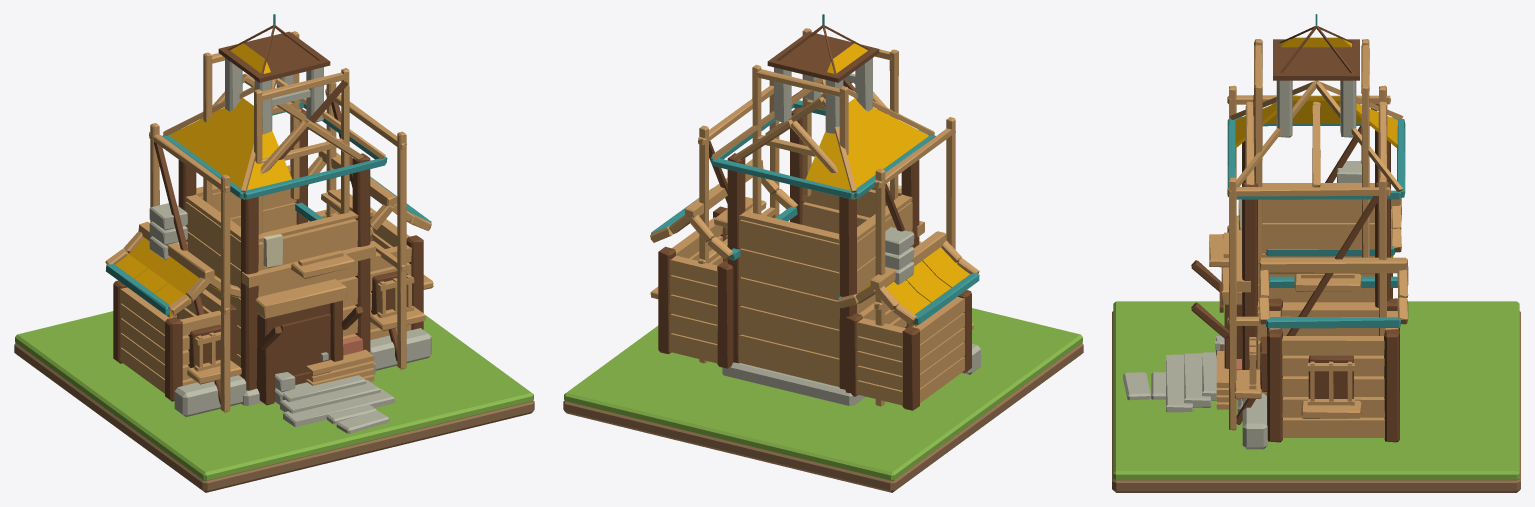
File: town_hall_l06_construction_LOD1.glb
3 views of the same model, side by side, from view 1: azimuth 30°, elevation 25°; view 2: azimuth 150°, elevation 25°; view 3: azimuth 270°, elevation 25° (orthographic). The views are drawn at different scales.
Visible parts, largest first — view 1: town_hall_l06_construction_foundation.001, town_hall_l06_construction_grass_tile.001, town_hall_l06_construction_earth_tile.001, town_hall_l06_construction_path_stone.005; view 2: town_hall_l06_construction_foundation.001, town_hall_l06_construction_grass_tile.001, town_hall_l06_construction_earth_tile.001; view 3: town_hall_l06_construction_foundation.001, town_hall_l06_construction_grass_tile.001, town_hall_l06_construction_earth_tile.001, town_hall_l06_construction_path_stone.005.
Boxes of the visible parts, <box> form: town_hall_l06_construction_foundation.001: <box>105,14,433,427</box>; town_hall_l06_construction_grass_tile.001: <box>15,311,533,480</box>; town_hall_l06_construction_earth_tile.001: <box>14,343,534,492</box>; town_hall_l06_construction_path_stone.005: <box>336,410,389,433</box>; town_hall_l06_construction_foundation.001: <box>650,14,980,410</box>; town_hall_l06_construction_grass_tile.001: <box>564,308,1082,480</box>; town_hall_l06_construction_earth_tile.001: <box>563,343,1083,492</box>; town_hall_l06_construction_foundation.001: <box>1166,14,1408,449</box>; town_hall_l06_construction_grass_tile.001: <box>1113,301,1519,480</box>; town_hall_l06_construction_earth_tile.001: <box>1112,311,1520,492</box>; town_hall_l06_construction_path_stone.005: <box>1123,372,1151,400</box>.
Size of the model in its own units: 3.6 by 3.83 by 3.6.
